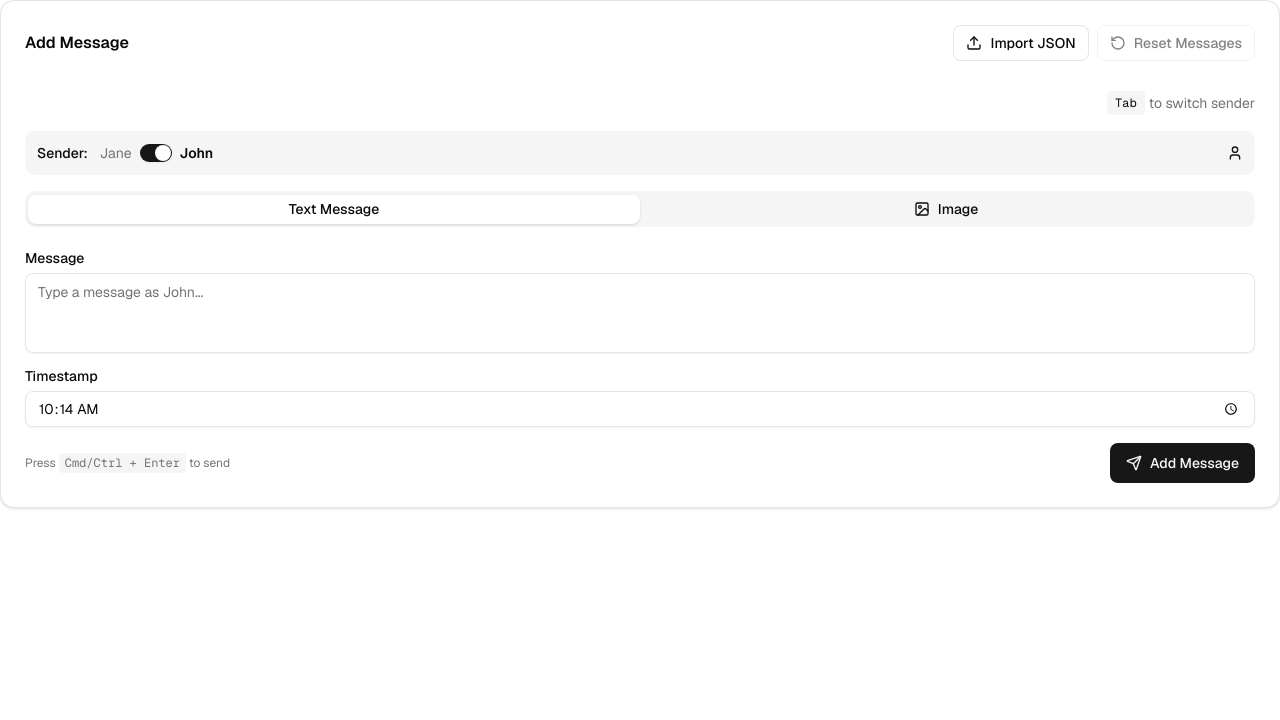
Test case: MessageForm JSON Import › Dialog Controls › closes dialog when close button is clicked
Click the button "Import JSON" at (1021, 43), box [953,25,1089,61]
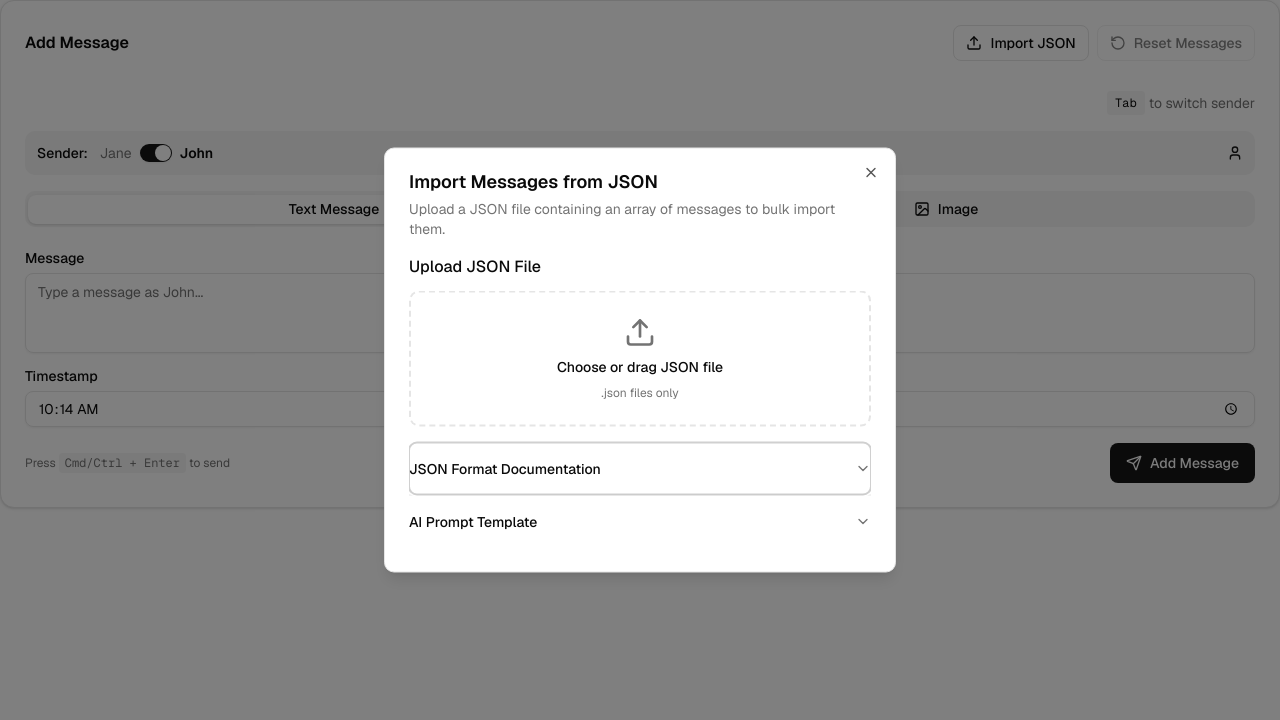
Now the button "JSON Format Documentation" is shown, box [409,442,871,494]
Click the button named "close" at (871, 172), box [863,164,879,180]
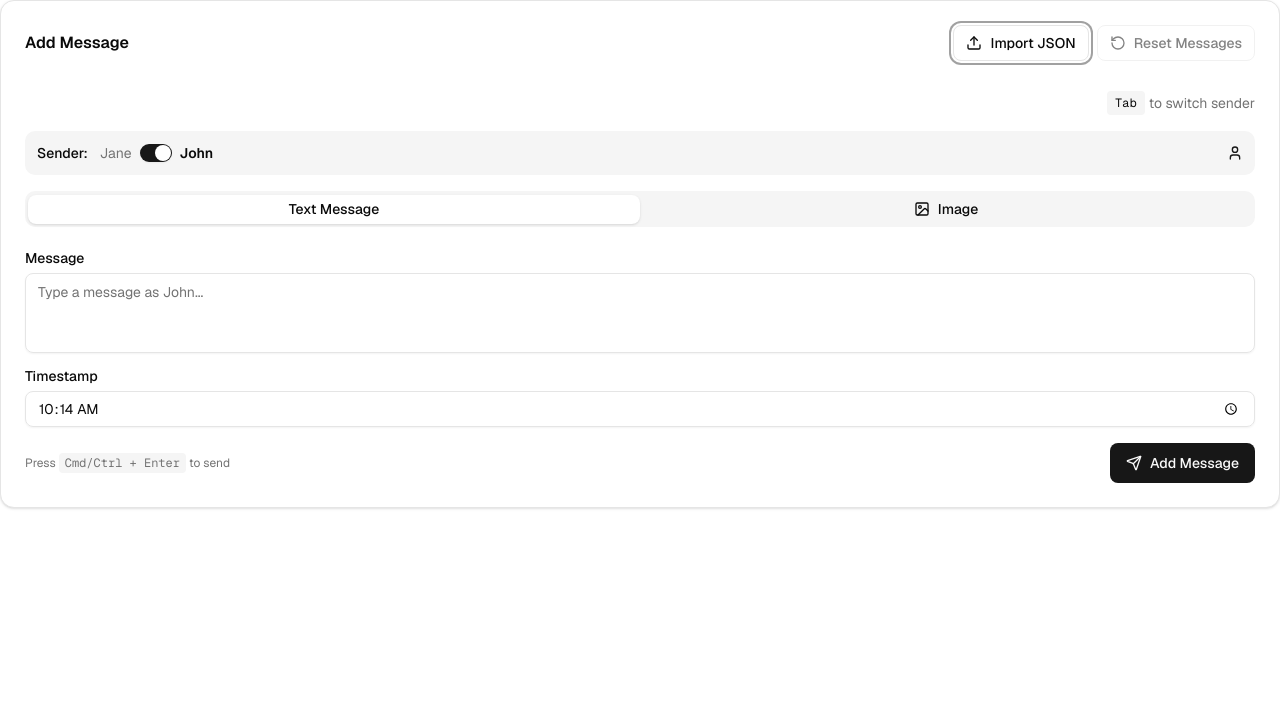
Now the button "JSON Format" is gone
